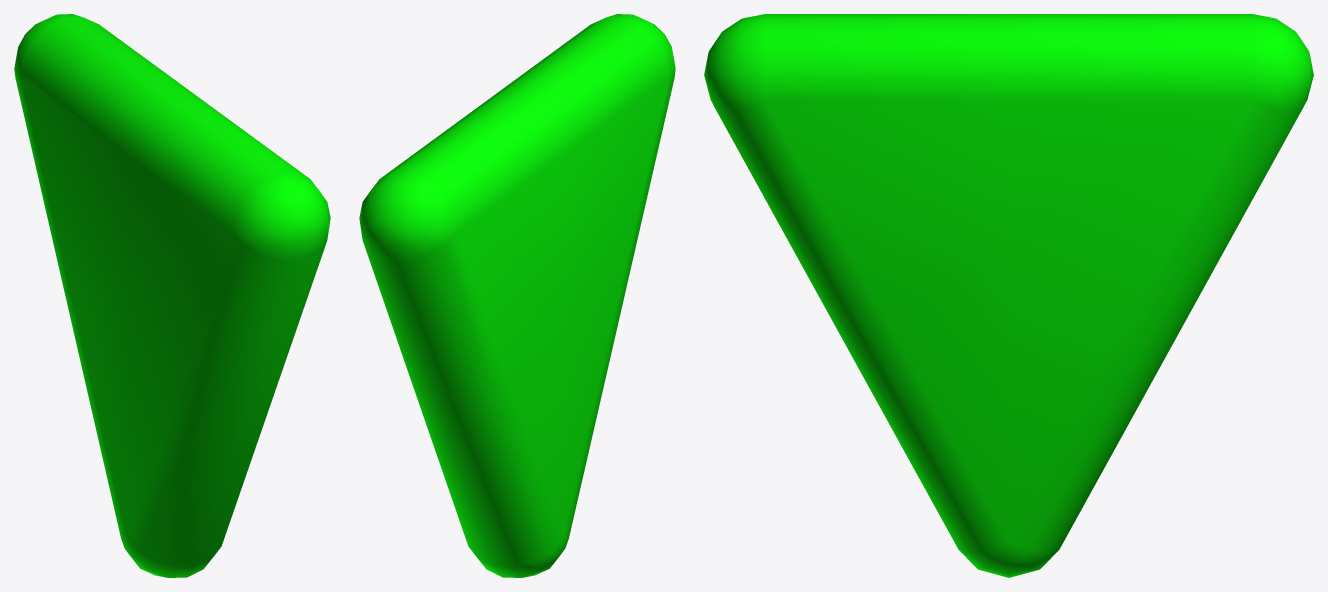
File: Direction.fbx
3 views of the same model, side by side, from view 1: azimuth 30°, elevation 25°; view 2: azimuth 150°, elevation 25°; view 3: azimuth 270°, elevation 25° (orthographic). The views are drawn at different scales.
Visible parts, largest first — view 1: Arrow001; view 2: Arrow001; view 3: Arrow001.
Part boxes in pixels (x1,y1,x2,y2): Arrow001: (14,14,330,577); Arrow001: (359,14,675,577); Arrow001: (704,14,1313,577).
Bounding box in the file's own units: 6.25 × 31.25 × 31.25.
